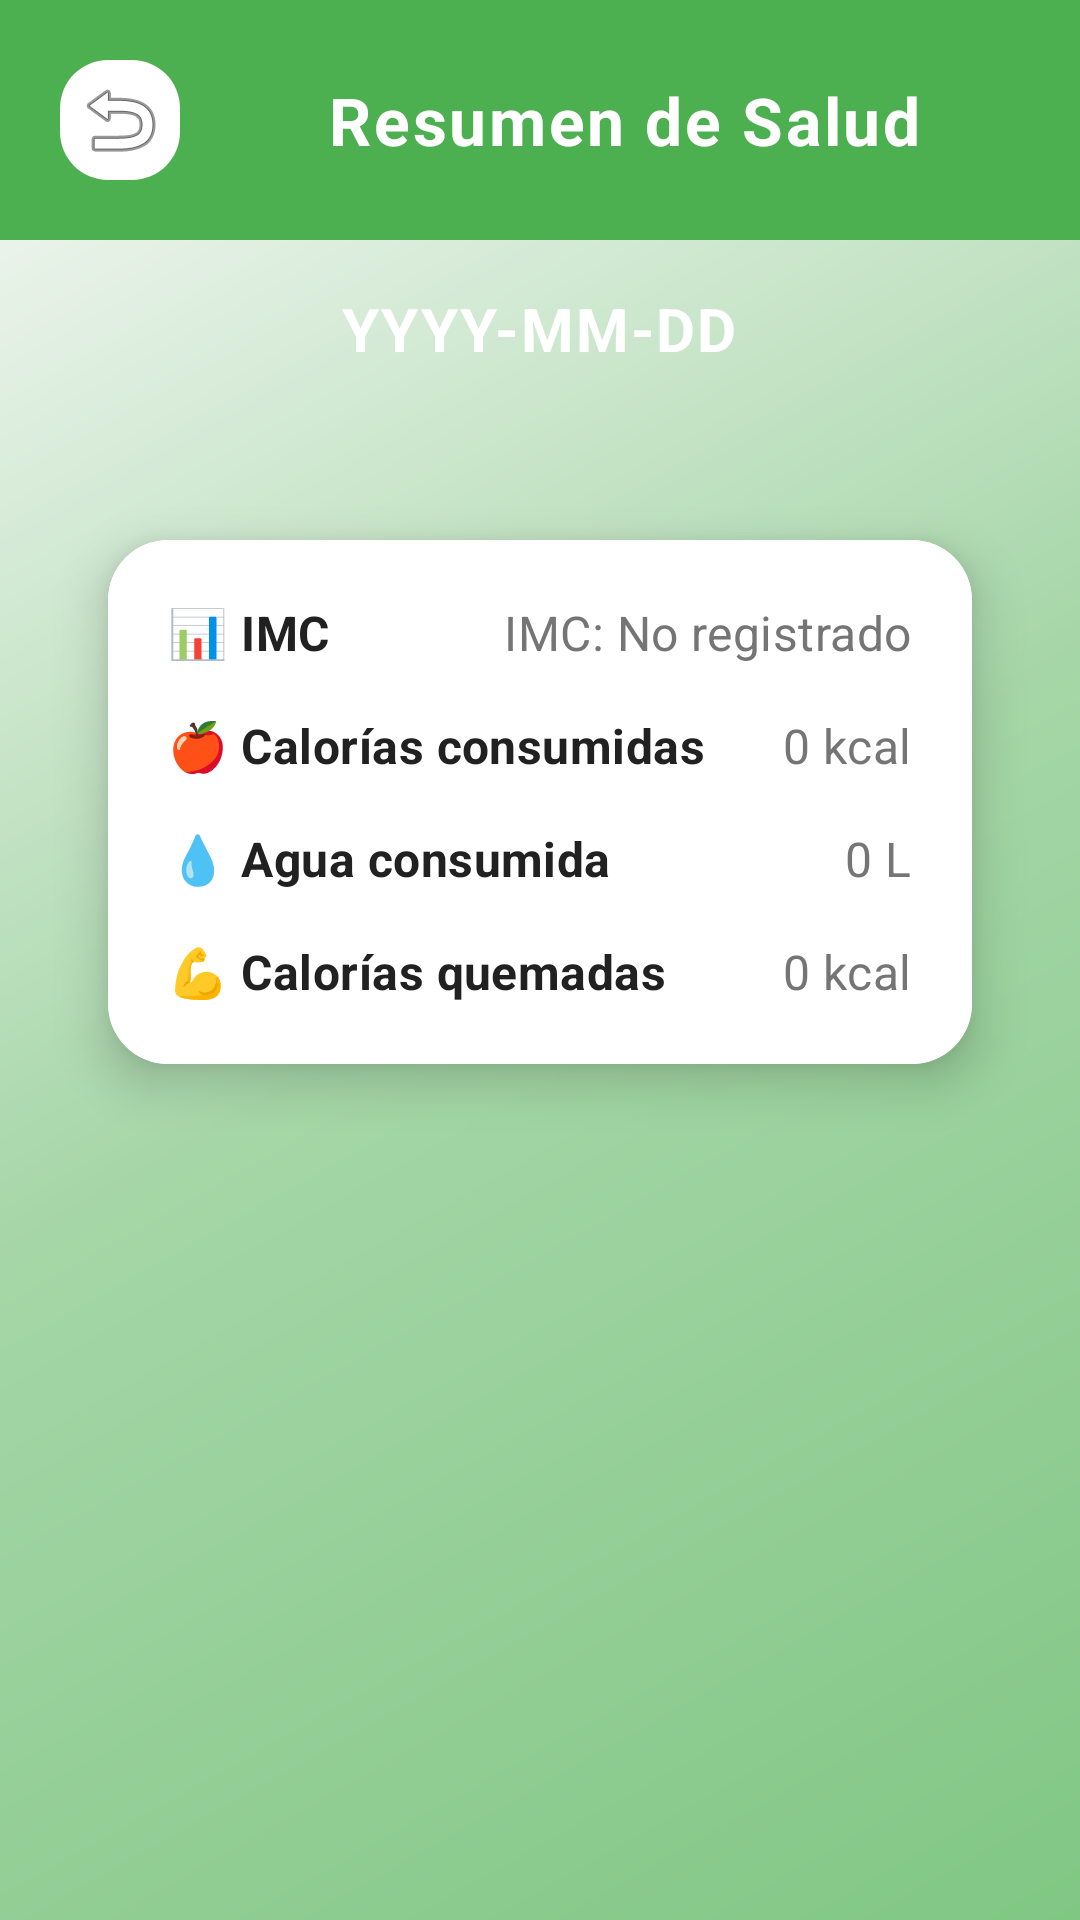

Where icons sit on this 1080x1920 app screen, as (x1, y1, x2, y2):
Volver: (60, 60, 180, 180)
